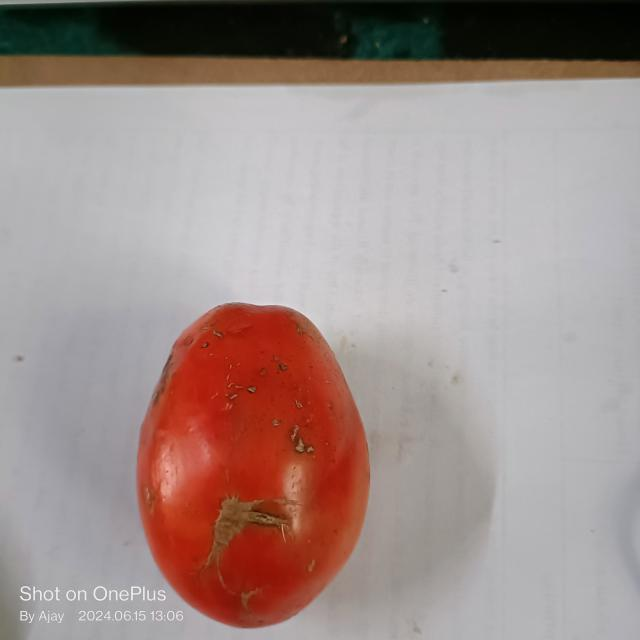Bacterial_Spot: (198, 489, 298, 568), (287, 426, 311, 460)
